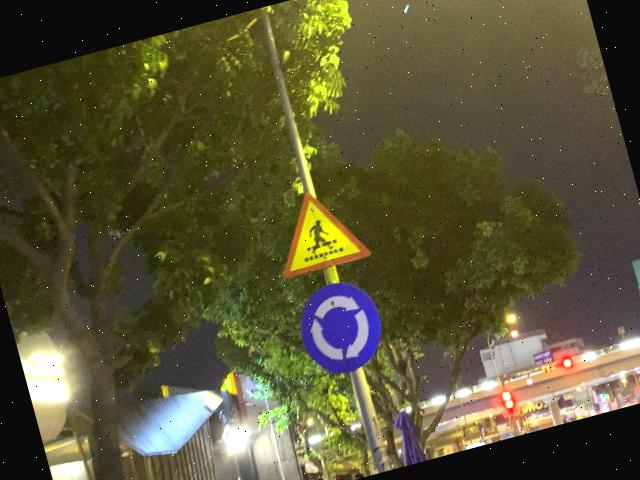duong-nguoi-di-bo-cat-ngang: (263, 178, 372, 278)
noi-giao-nhau-chay-theo-vong-xuyen: (289, 273, 392, 382)
